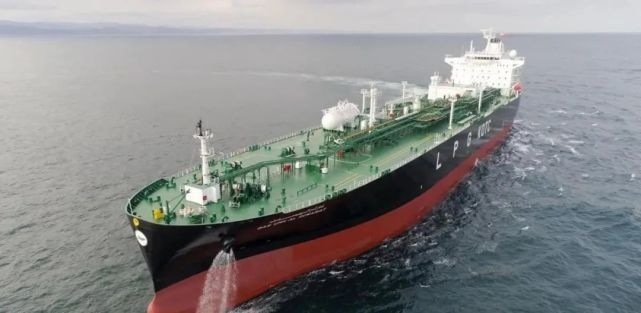Cargoship: (122, 23, 529, 311)
